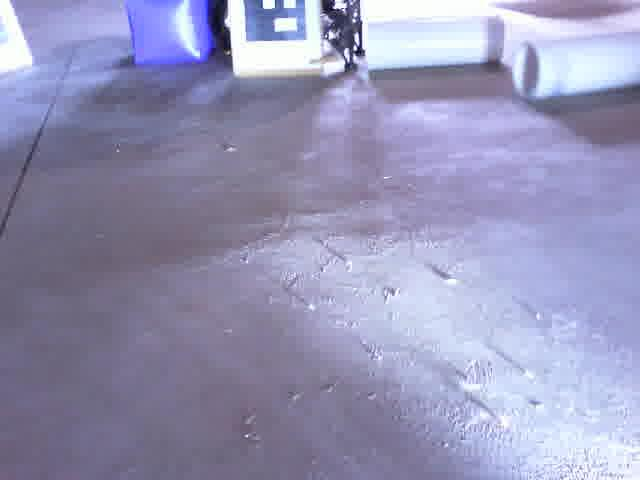coral: (513, 36, 640, 100), (367, 13, 504, 71)
